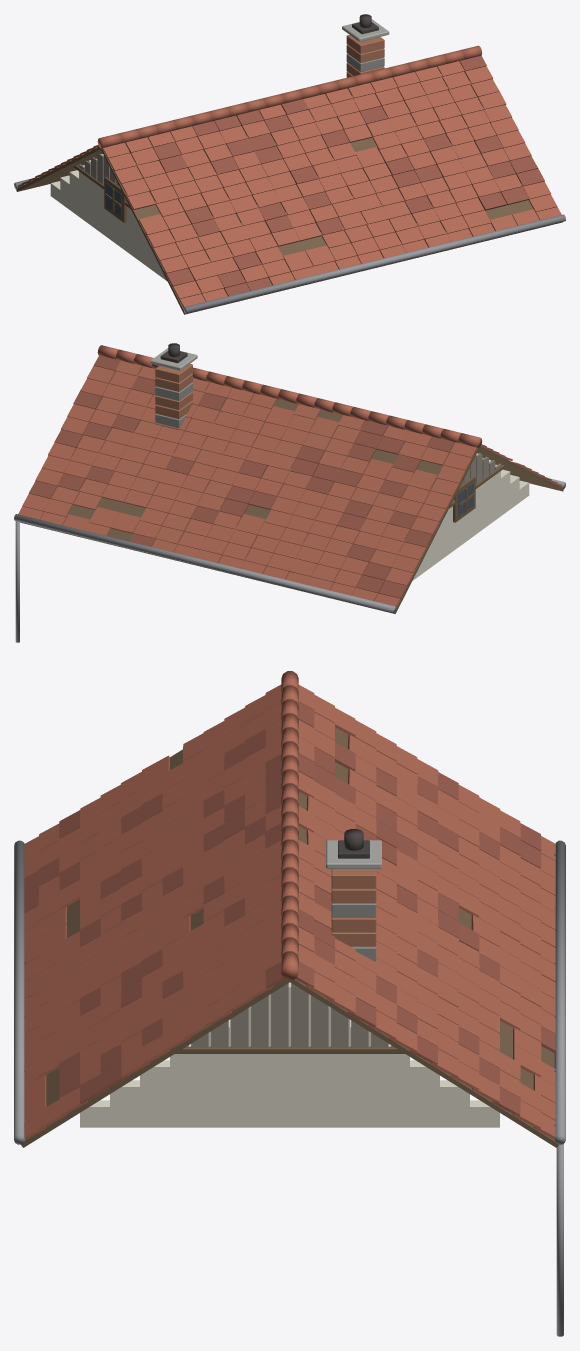
Rendered from v_house_roof.glb.
3 renders of one model, top to bottom at view 1: azimuth 30°, elevation 25°; view 2: azimuth 150°, elevation 25°; view 3: azimuth 270°, elevation 25°, orthographic. The views are drawn at different scales.
Parts seen in each view (by area): view 1: House_Roof; view 2: House_Roof; view 3: House_Roof.
Boxes of the visible parts, bbox=[...] form: House_Roof: bbox=[14, 14, 565, 314]; House_Roof: bbox=[14, 343, 565, 642]; House_Roof: bbox=[14, 671, 565, 1336].
Size of what is drawn, in the model's own units: 8.72 by 5.95 by 6.9.
